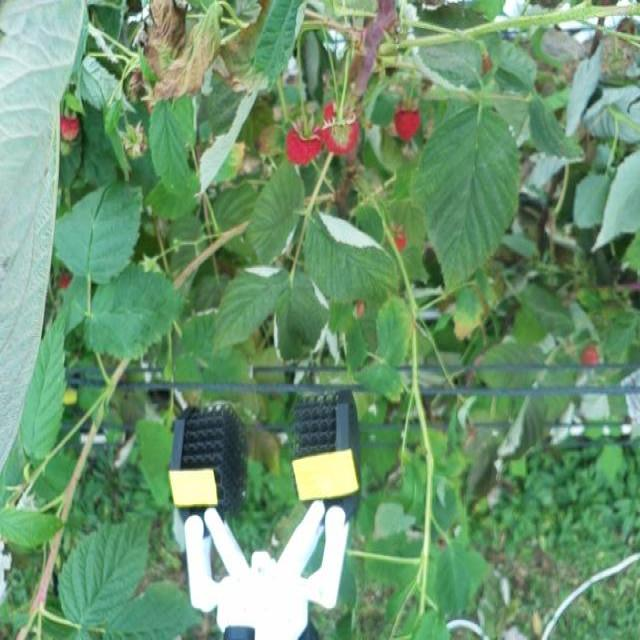Riped berries: (322, 100, 366, 154), (288, 112, 322, 164), (395, 98, 428, 142), (59, 110, 87, 143), (387, 217, 409, 251)
